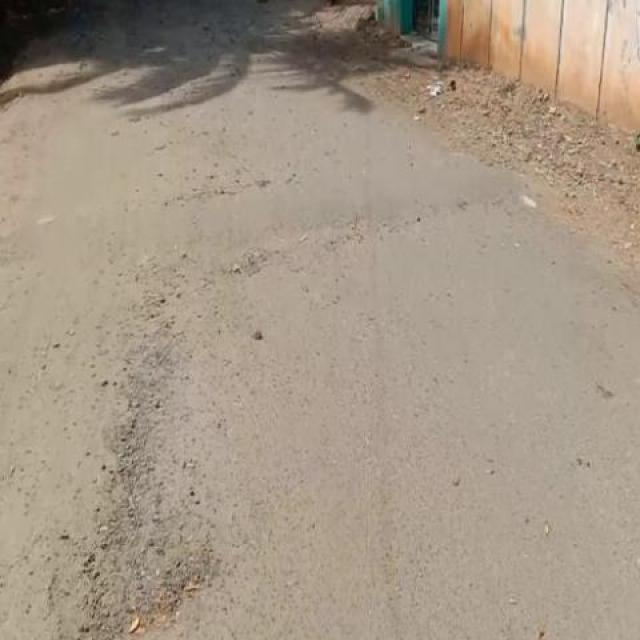Unmarked Bump: (15, 160, 526, 255)
